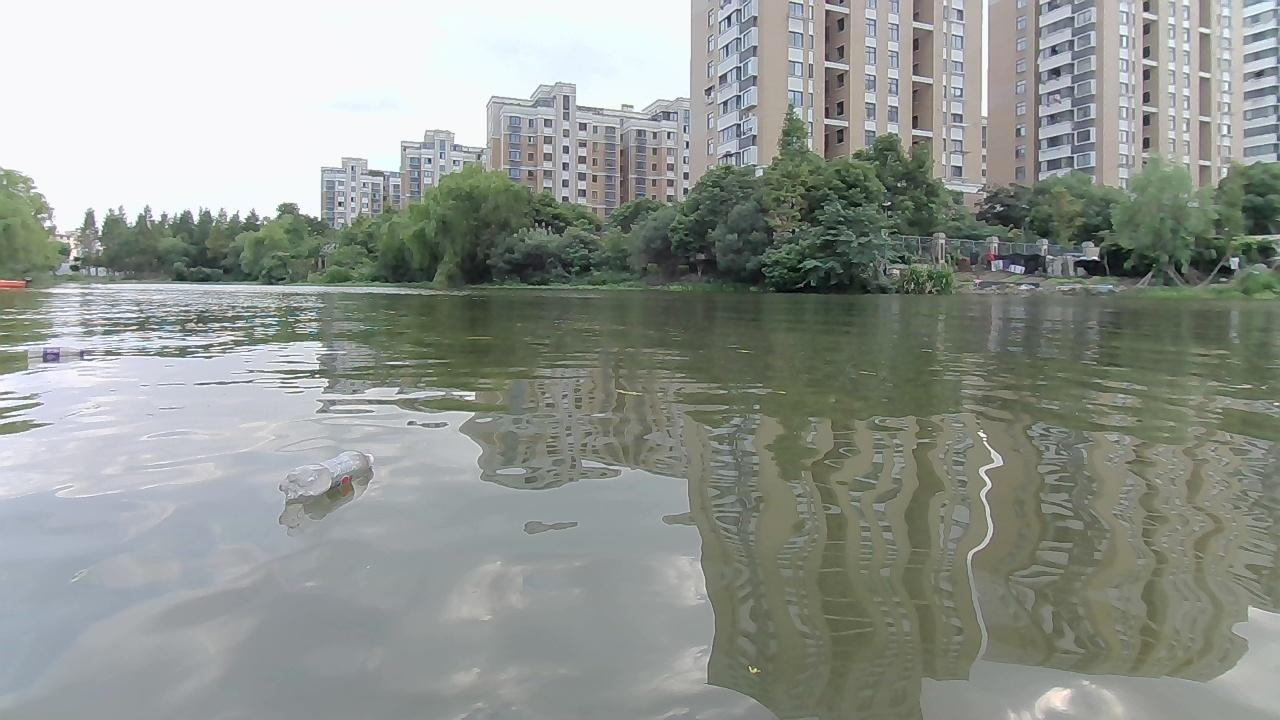bottle: (269, 449, 388, 512), (20, 340, 96, 366)
